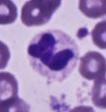N: (26, 29, 79, 80)
